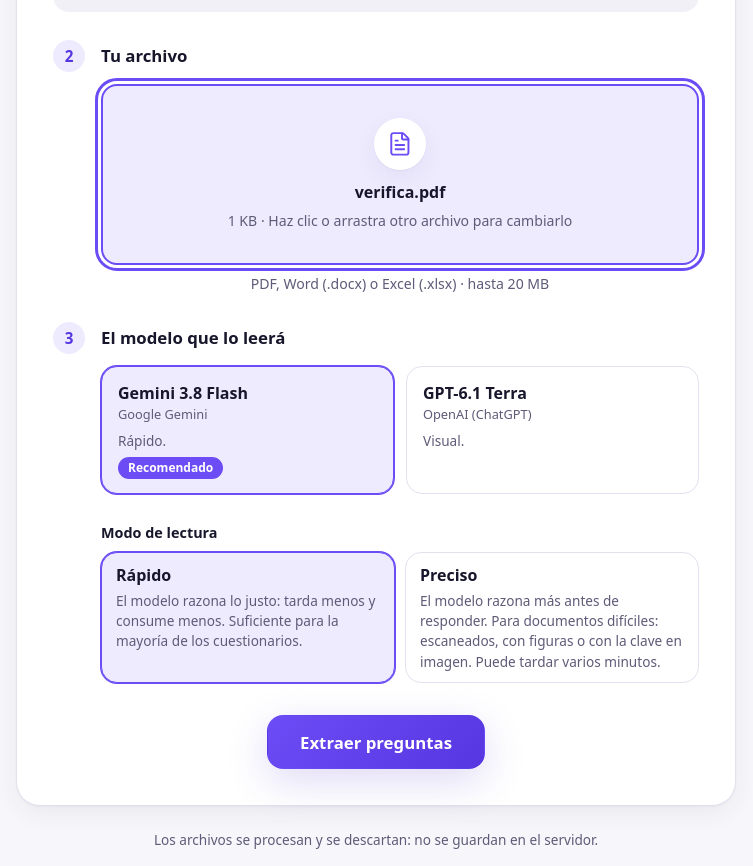
Test case: App › explains a server error in Spanish, with what to do and the request code
The width and height of the screenshot is (753, 866).
Earlier steps of the test are not shown.
(page scrolled)
Click the button "Extraer preguntas" at point(376, 742), box [267, 715, 485, 769]
(page scrolled)
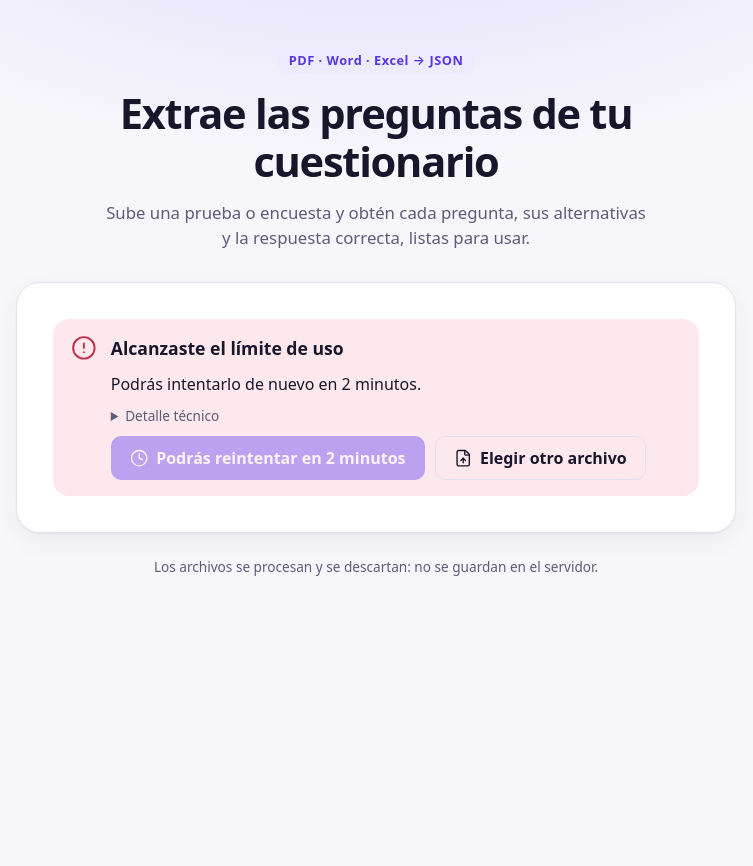
Expected: the text "Podrás intentarlo de nuevo en 2 minutos." is shown, [111, 373, 421, 395]
